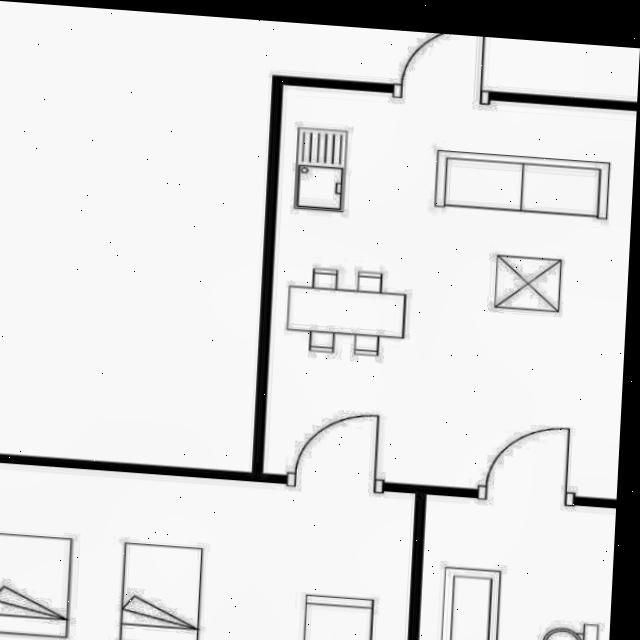room: (265, 85, 637, 498), (0, 461, 415, 640), (420, 495, 616, 640)
